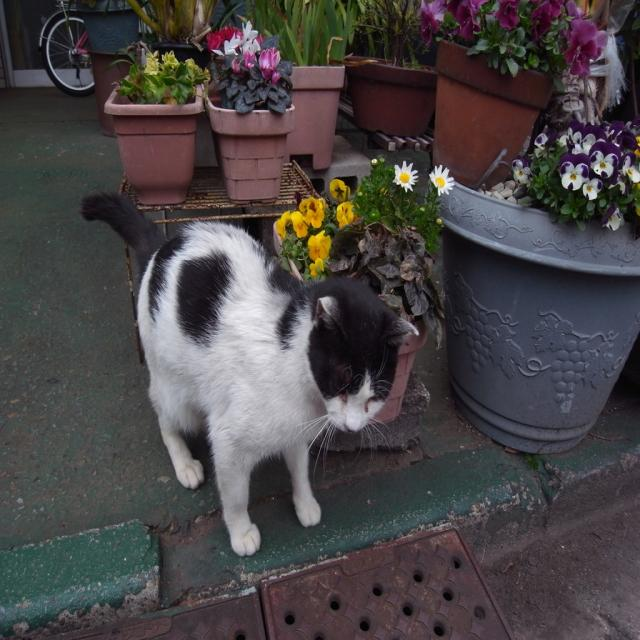Cat: (76, 190, 420, 558)
